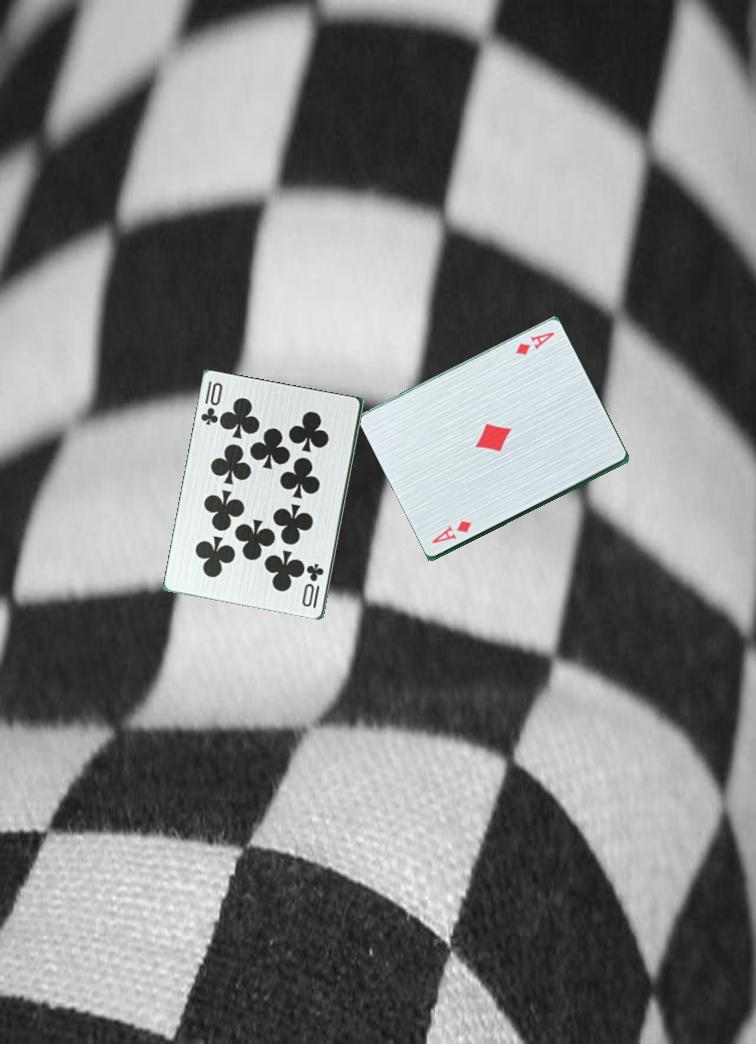ad: (424, 516, 482, 547), (512, 327, 558, 358)
tc: (298, 555, 327, 613), (197, 378, 226, 429)
